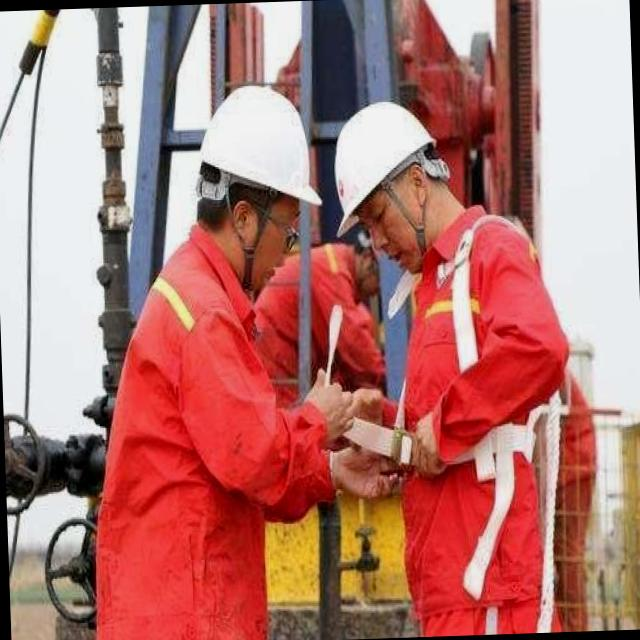helmet: (195, 80, 314, 205), (332, 94, 438, 210)
no-goggles: (239, 198, 313, 258), (359, 195, 408, 239)
no-vest: (118, 235, 260, 584), (407, 209, 540, 491)
